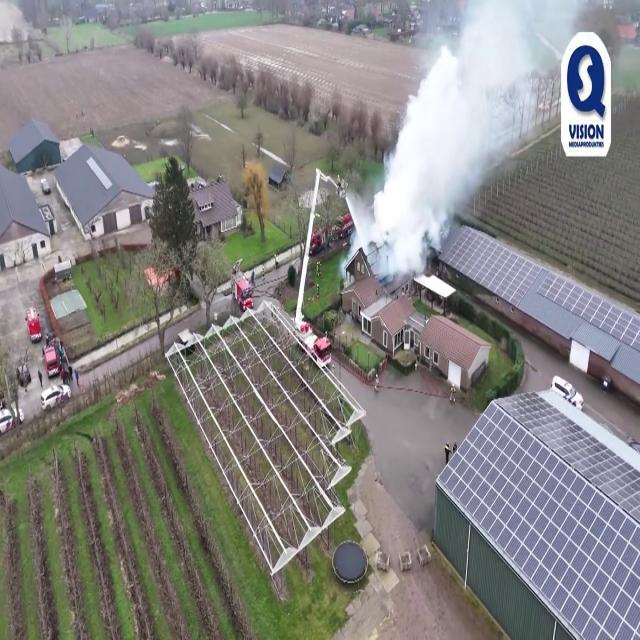Smoke: (364, 0, 544, 281)
